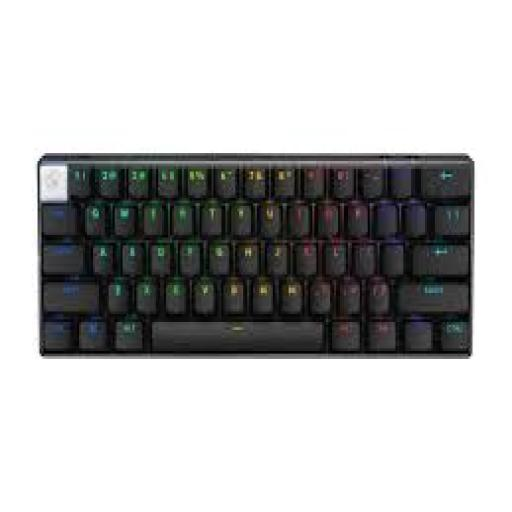keyboard: (40, 153, 470, 354)
